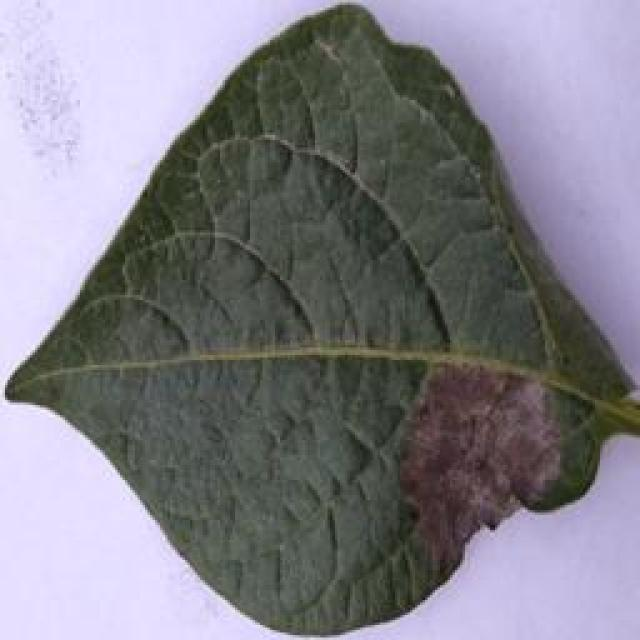Potato_Late_Blight: (1, 6, 632, 632)
